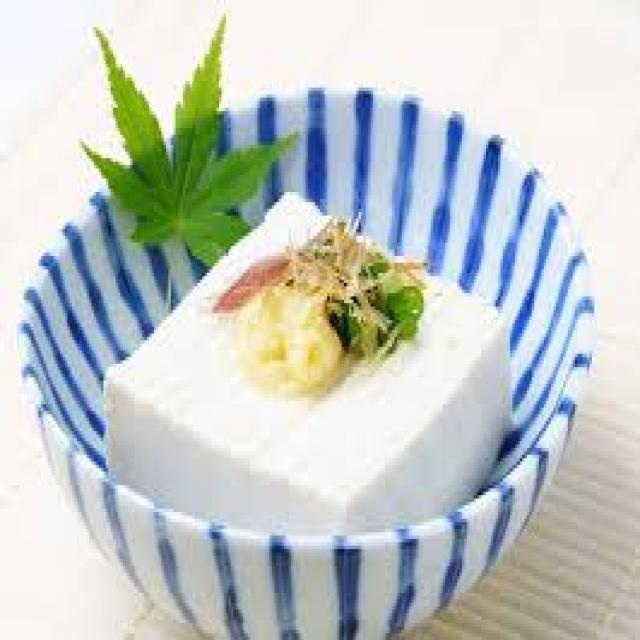tofu: (72, 196, 547, 567)
